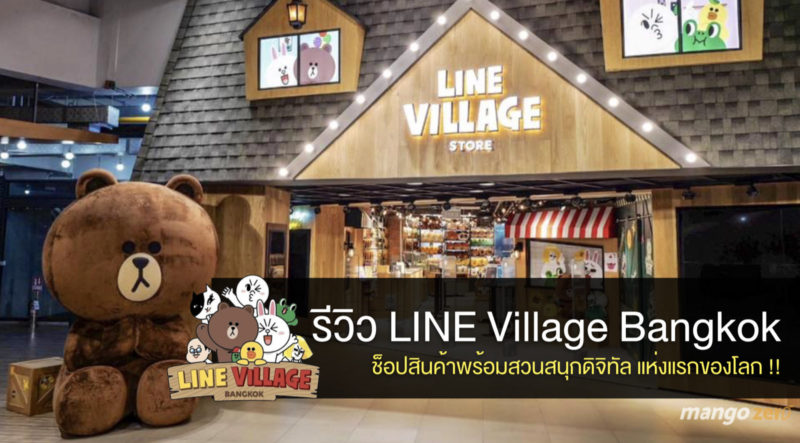line_brown: (39, 162, 218, 327), (290, 41, 343, 92)
